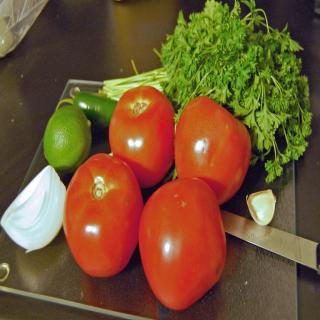tomato: (138, 176, 227, 311), (60, 150, 143, 287), (174, 94, 252, 208), (106, 88, 174, 190)
